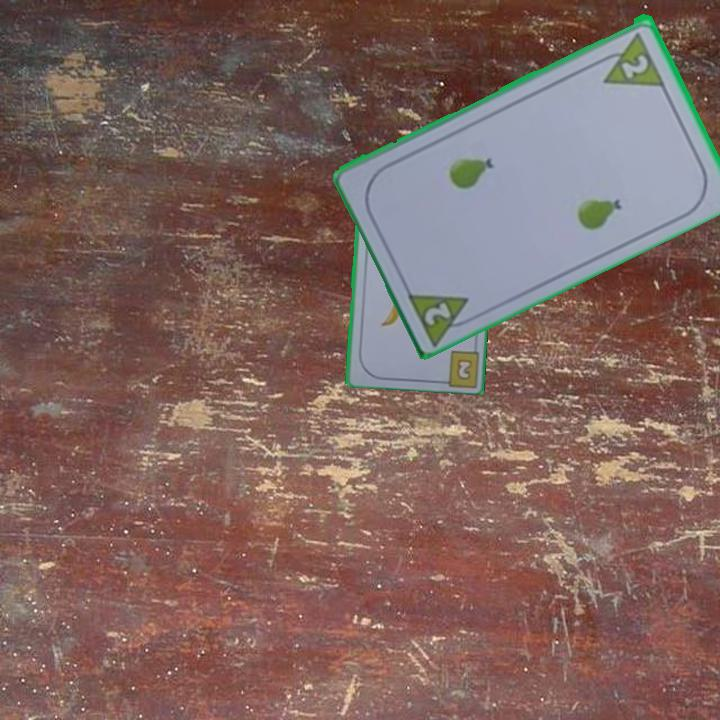2b: (453, 355, 475, 383)
2p: (403, 285, 482, 346), (591, 27, 667, 89)
